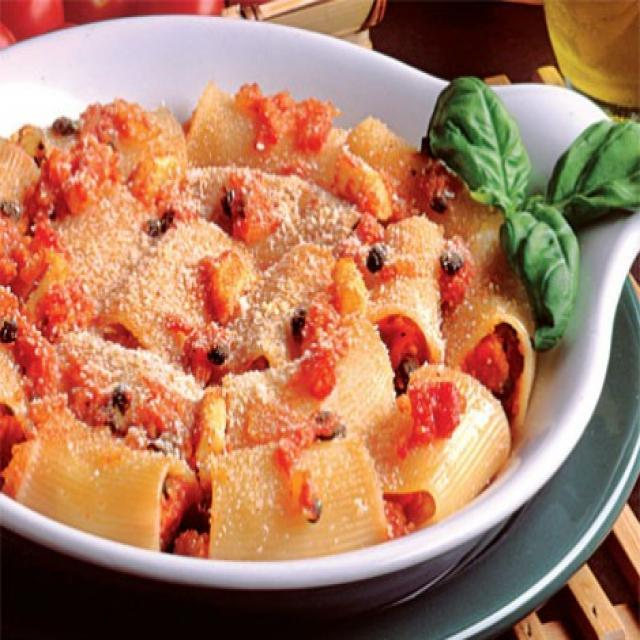Pasta al ragu: (6, 70, 586, 569)
